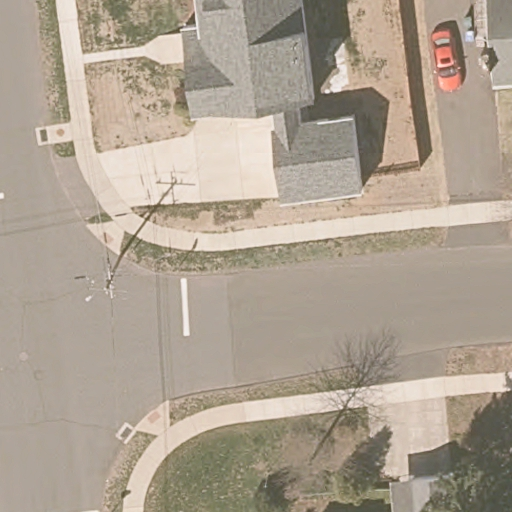DT: (83, 249, 124, 306)
